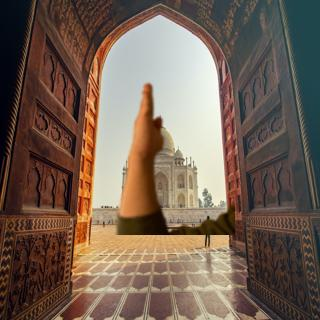RIGHT: (127, 76, 170, 162)
